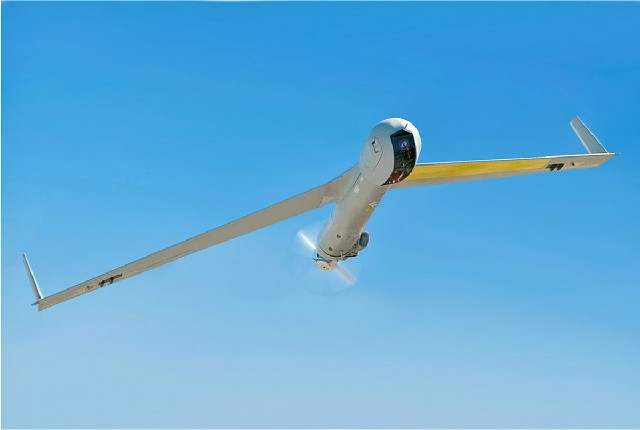maybay_khongnguoilai: (34, 113, 622, 331)
